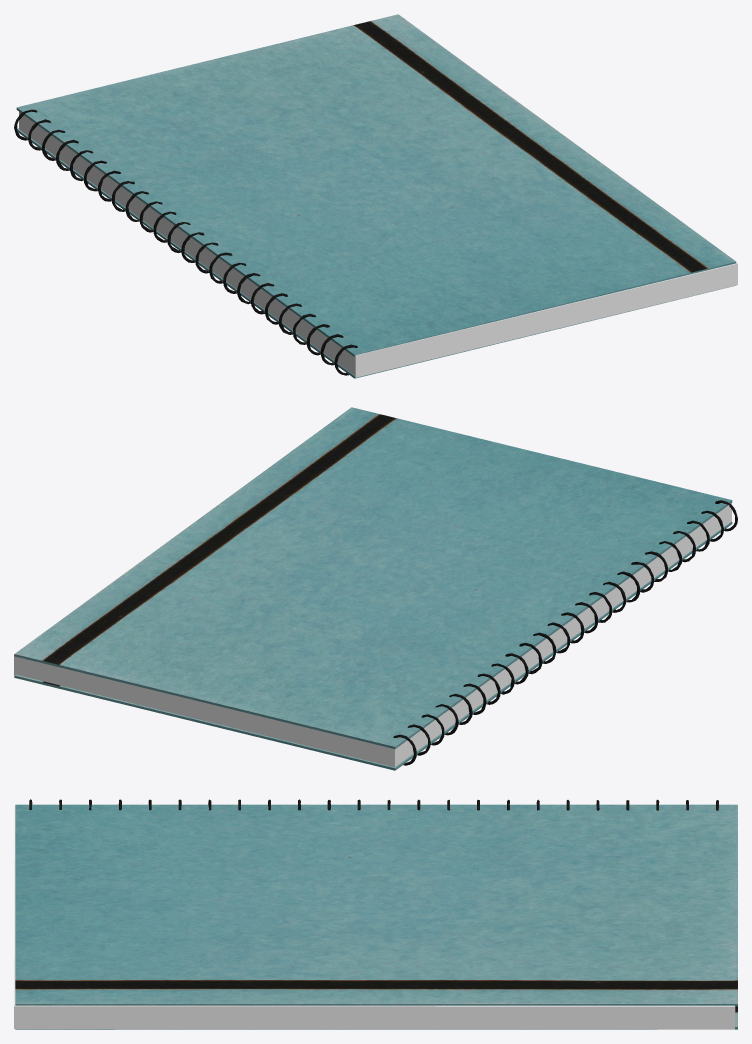
Rendered from Notebook 1.FBX.
The picture shows the model from 3 angles, top to bottom: view 1: azimuth 30°, elevation 25°; view 2: azimuth 150°, elevation 25°; view 3: azimuth 270°, elevation 25°; orthographic projection. The views are drawn at different scales.
Visible parts, largest first — view 1: notebook 1; view 2: notebook 1; view 3: notebook 1.
Boxes of the visible parts, x1,y1,x2,y2 form: notebook 1: (14,14,737,378); notebook 1: (14,407,737,770); notebook 1: (14,799,737,1029).
Size of the model in its own units: 20.49 by 1.49 by 30.32.
Materials: 1 (1 with a texture image).
